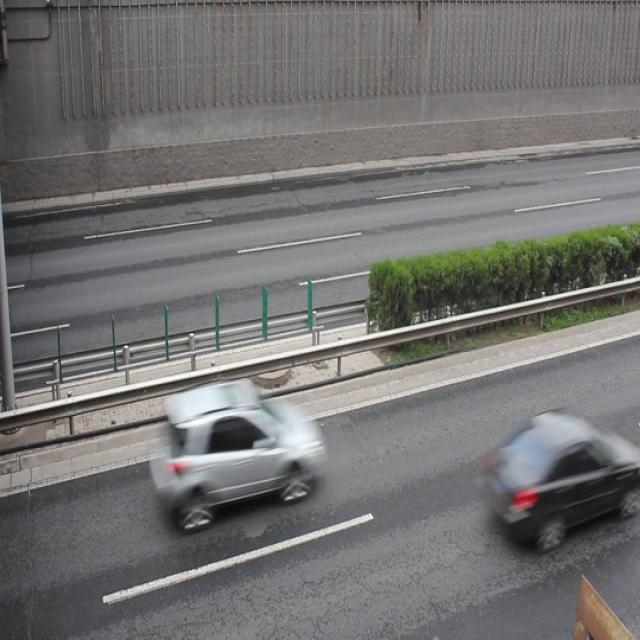car: (156, 380, 316, 528), (489, 406, 625, 547)
